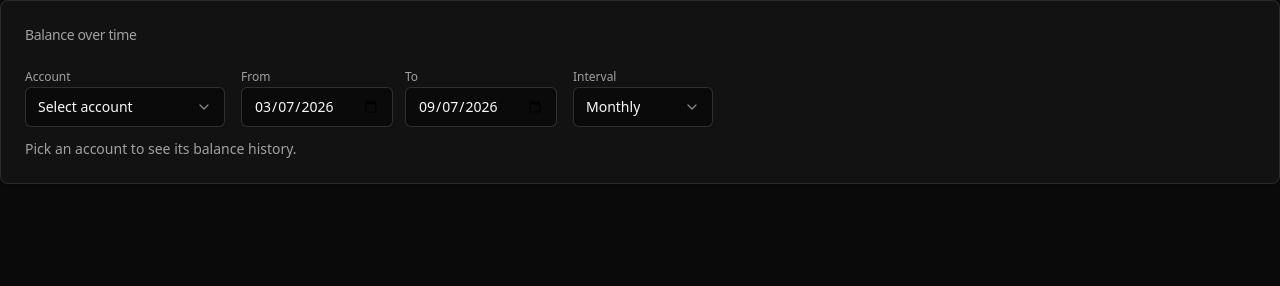
it: BalanceOverTimeSection › renders an error state when the endpoint returns 500 after an account is picked
What coordinates should you click on to do the following:
click the dropdown with test id "balance-account"
I would click on:
 (125, 107)
Its box is [25,87,225,127].
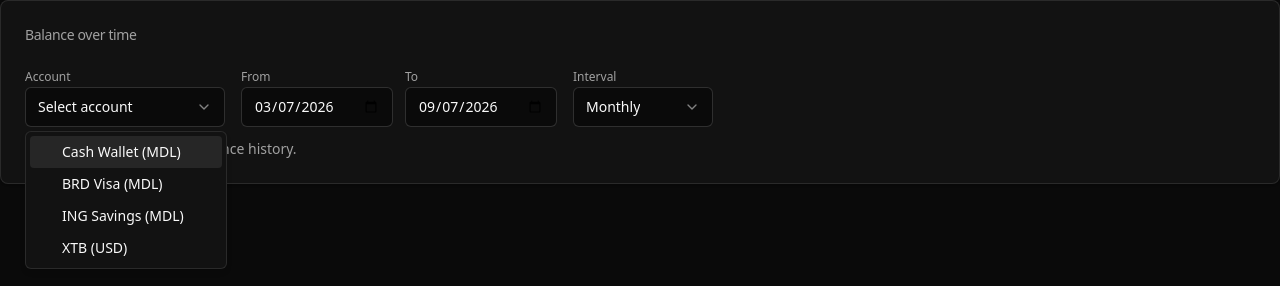
What coordinates should you click on to do the following:
click the option "Cash Wallet (MDL)"
I would click on:
 (126, 152)
Its box is [30,136,222,168].
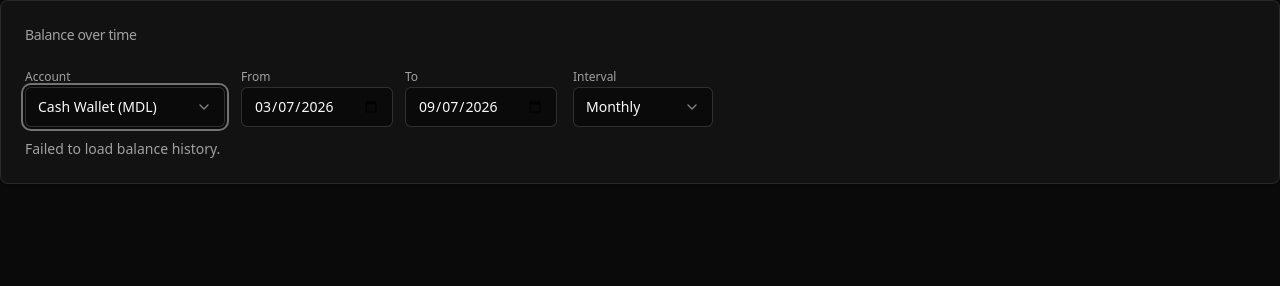
Check: the text "Failed to load balance history." is shown, box [25,139,220,158]
